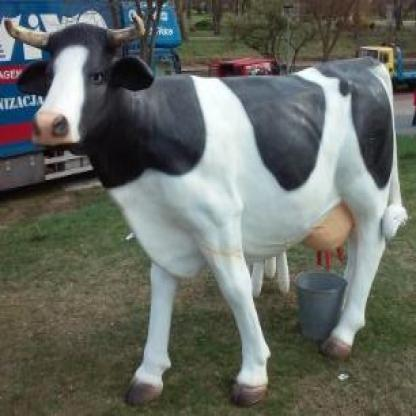cow: (3, 11, 406, 407)
